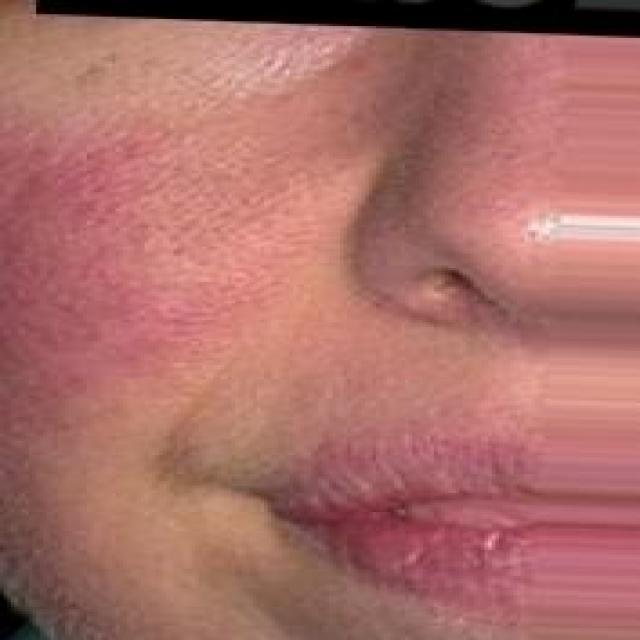Rosacea: (0, 117, 316, 414), (418, 45, 561, 223)
